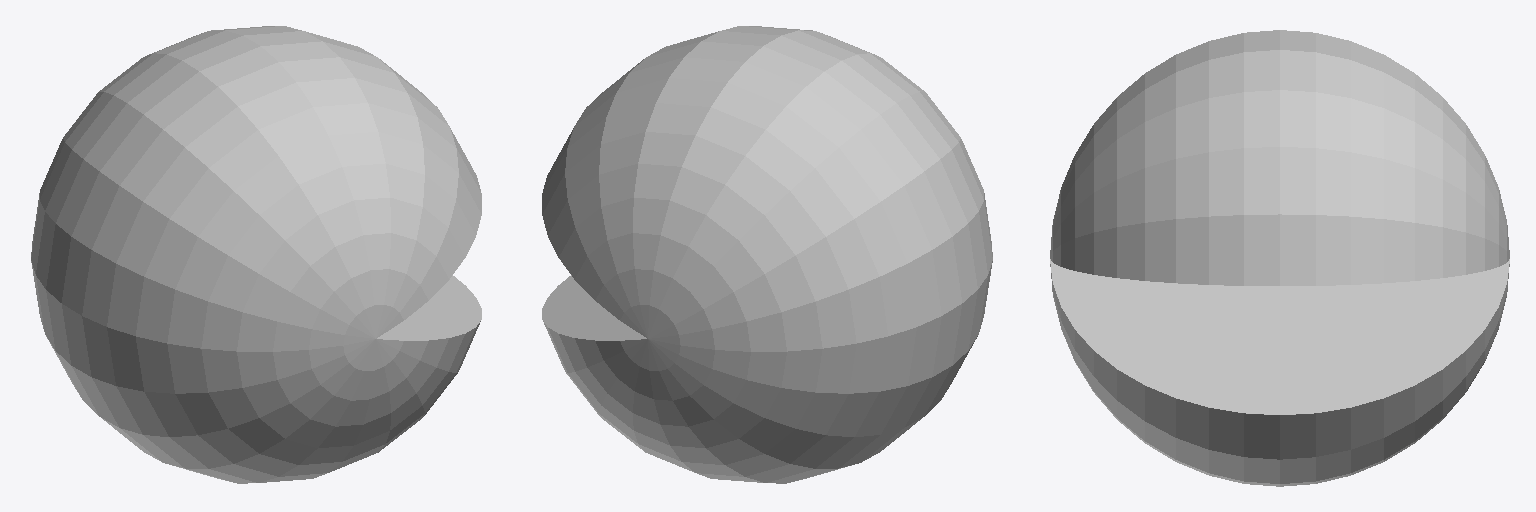
The model's file is pacman1.obj.
The picture shows the model from 3 angles: view 1: azimuth 30°, elevation 25°; view 2: azimuth 150°, elevation 25°; view 3: azimuth 270°, elevation 25°; orthographic projection.
Visible parts, largest first — view 1: pSphere2; view 2: pSphere2; view 3: pSphere2.
Part boxes in pixels (x1,y1,x2,y2): pSphere2: (31, 26, 481, 483); pSphere2: (542, 26, 992, 483); pSphere2: (1050, 30, 1509, 486).
Bounding box in the file's own units: 1.95 × 2 × 2.